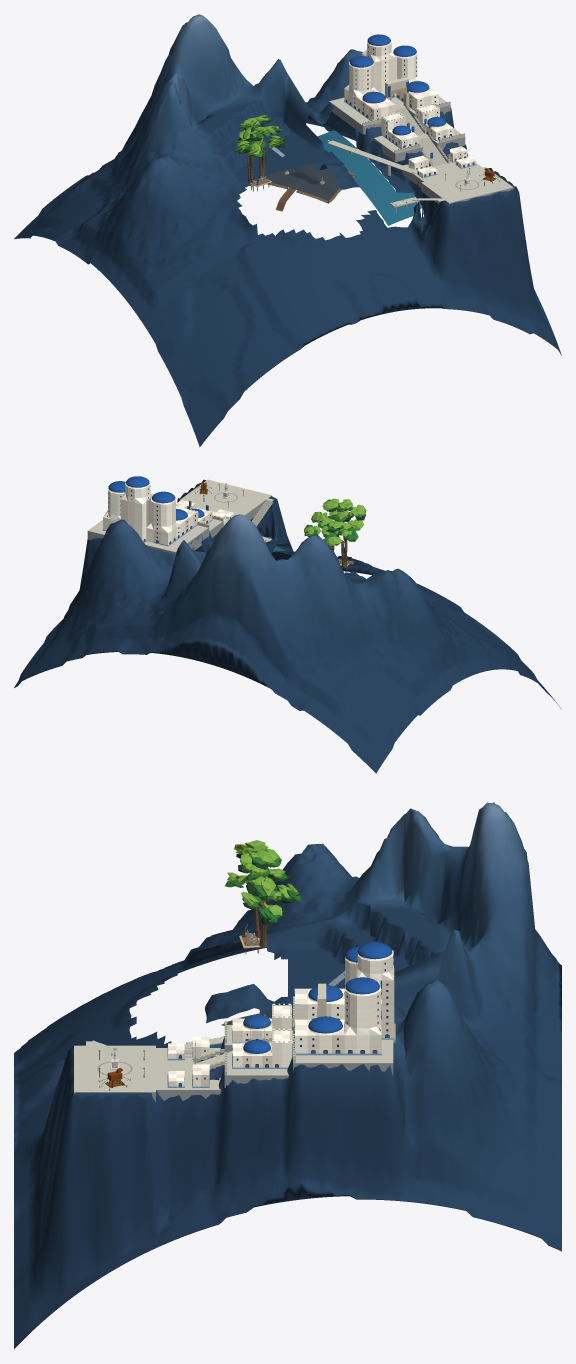
File: citadel-cliff-input.glb
The picture shows the model from 3 angles, top to bottom: view 1: azimuth 30°, elevation 25°; view 2: azimuth 150°, elevation 25°; view 3: azimuth 270°, elevation 25°; orthographic projection. The views are drawn at different scales.
Visible parts, largest first — view 1: citadel-oskar-grid-mountain-surface, west-city-crown, west-city-water-channel, west-city-middle, west-city-plaza-deck, navona-plaza-basin-stone, citadel-tarn-companion-pine, west-city-harbor, citadel-sacred-tarn-elder-tree; view 2: citadel-oskar-grid-mountain-surface, west-city-crown, west-city-plaza-deck, citadel-tarn-companion-pine, citadel-sacred-tarn-elder-tree, west-city-crown-promenade-0; view 3: citadel-oskar-grid-mountain-surface, west-city-crown, west-city-plaza-deck, west-city-middle, citadel-sacred-tarn-elder-tree, citadel-tarn-companion-pine, west-city-harbor, west-city-harbor-promenade-0, west-city-crown-promenade-1.
Boxes of the visible parts, x1,y1,x2,y2 form: citadel-oskar-grid-mountain-surface: (14, 14, 561, 447); west-city-crown: (344, 34, 439, 125); west-city-water-channel: (317, 130, 422, 225); west-city-middle: (381, 103, 453, 148); west-city-plaza-deck: (421, 167, 513, 203); navona-plaza-basin-stone: (264, 164, 352, 200); citadel-tarn-companion-pine: (233, 117, 266, 182); west-city-harbor: (408, 146, 476, 178); citadel-sacred-tarn-elder-tree: (239, 115, 284, 178); citadel-oskar-grid-mountain-surface: (14, 479, 561, 773); west-city-crown: (102, 476, 197, 546); west-city-plaza-deck: (180, 479, 271, 515); citadel-tarn-companion-pine: (323, 499, 366, 567); citadel-sacred-tarn-elder-tree: (304, 498, 353, 551); west-city-crown-promenade-0: (144, 525, 208, 552); citadel-oskar-grid-mountain-surface: (14, 802, 561, 1349); west-city-crown: (292, 942, 395, 1058); west-city-plaza-deck: (74, 1045, 155, 1092); west-city-middle: (232, 1003, 292, 1068); citadel-sacred-tarn-elder-tree: (241, 848, 284, 947); citadel-tarn-companion-pine: (225, 840, 301, 938); west-city-harbor: (167, 1036, 209, 1087); west-city-harbor-promenade-0: (156, 1048, 220, 1090); west-city-crown-promenade-1: (293, 1039, 393, 1063).
Bounding box in the file's own units: 180 × 130 × 160.
